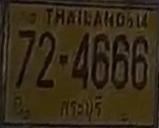2: (38, 30, 54, 88)
4: (71, 32, 89, 88)
6: (91, 33, 109, 88), (131, 36, 149, 90), (111, 34, 128, 88)
7: (16, 29, 35, 89)
SRI: (55, 94, 105, 123)
